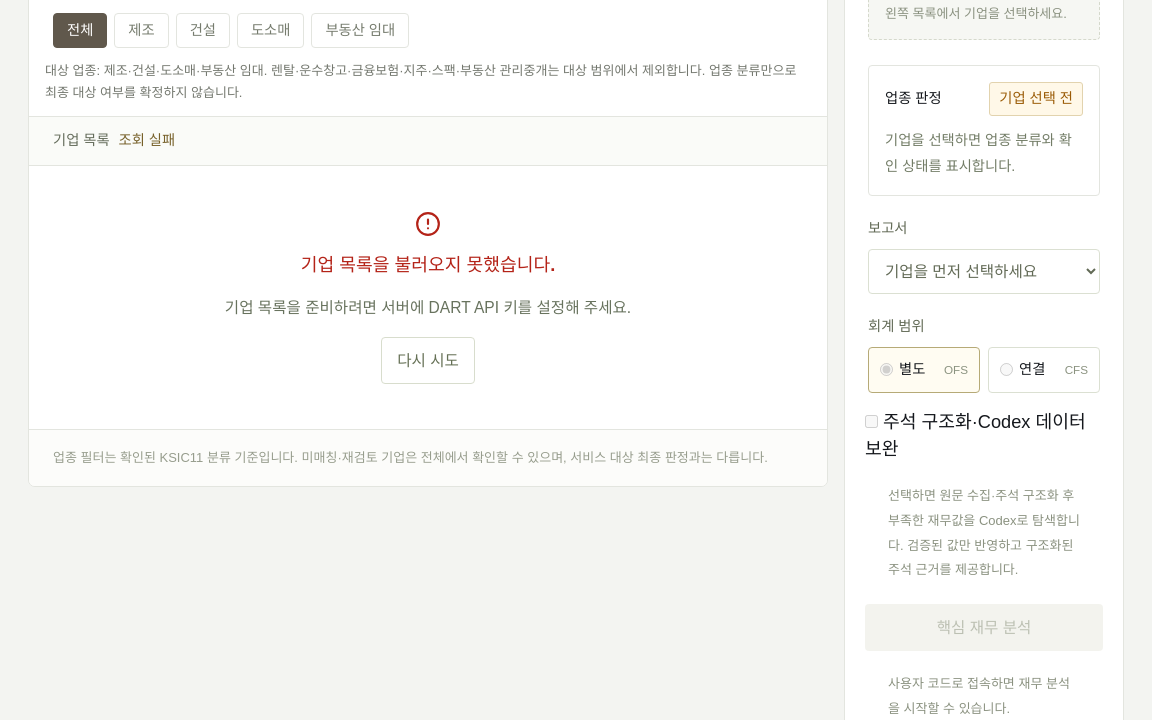
Test case: distinguishes request failure from no results and retries successfully
(page scrolled)
Expected: the message shows "기업 목록을 불러오지 못했습니다.", [301, 255, 555, 275]
Expected: the text "검색 결과가 없습니다" is not shown
Step 1. Click the button "다시 시도" → (428, 361), box [381, 337, 475, 384]
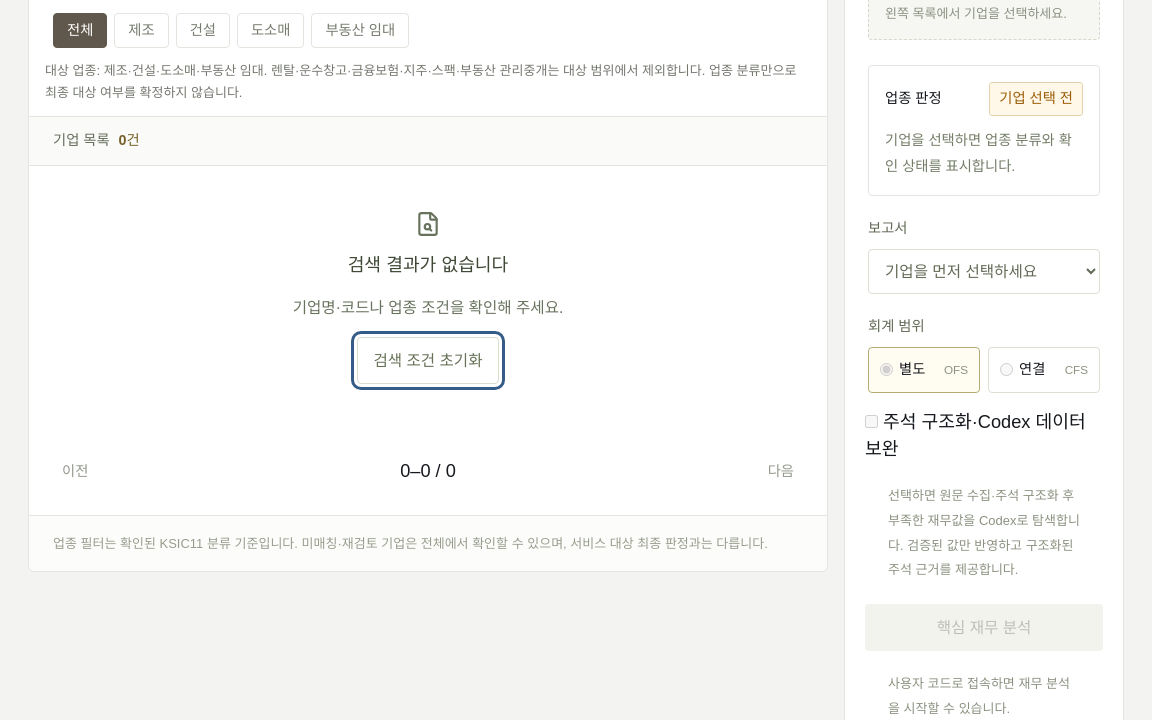
Result: the heading "검색 결과가 없습니다" is shown at [348, 252, 508, 279]
